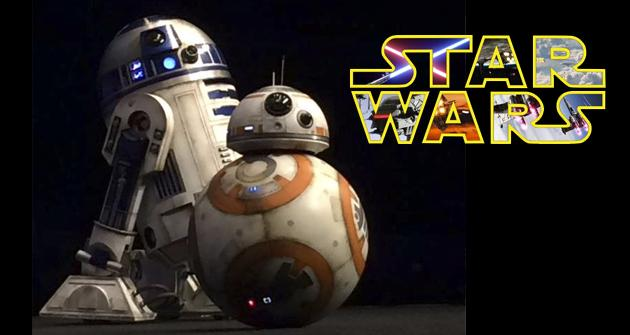r2d2: (63, 20, 210, 317)
